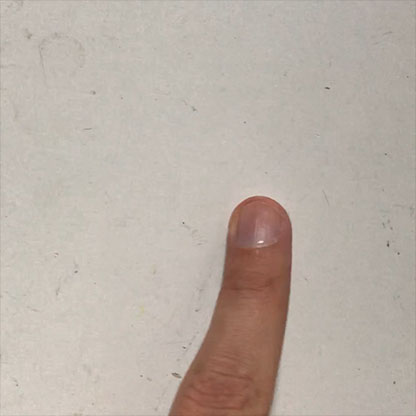fingertip: (222, 186, 301, 264)
